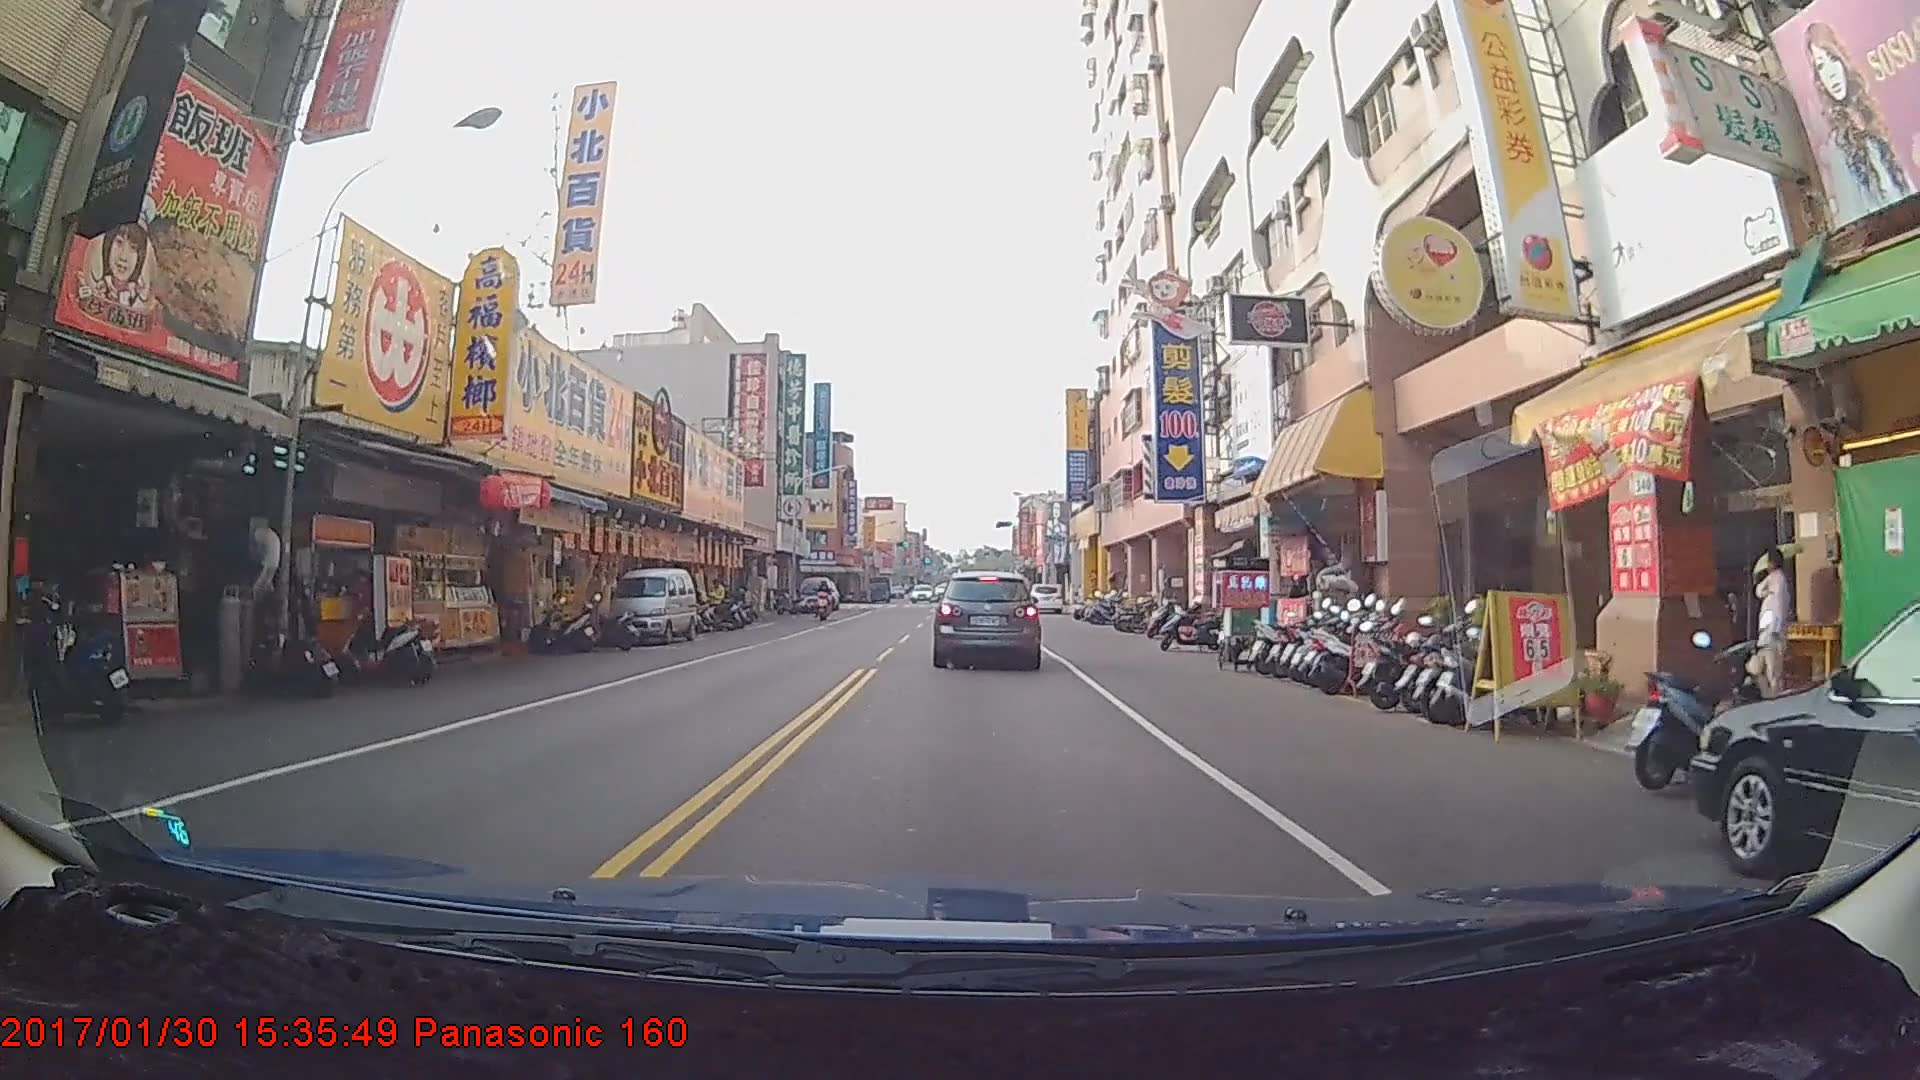pedestrian: (1741, 549, 1802, 714), (700, 575, 727, 626)
rider: (811, 574, 835, 619)
vehicle: (1690, 589, 1920, 953), (934, 569, 1041, 669), (601, 564, 695, 642), (798, 572, 833, 609), (1029, 584, 1062, 615)
